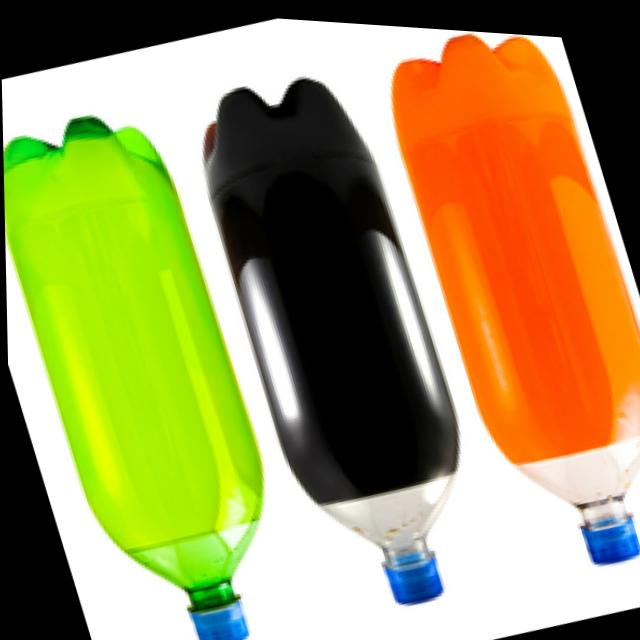plastic_soda_bottles: (173, 46, 509, 626), (1, 85, 311, 640), (369, 19, 640, 586)
